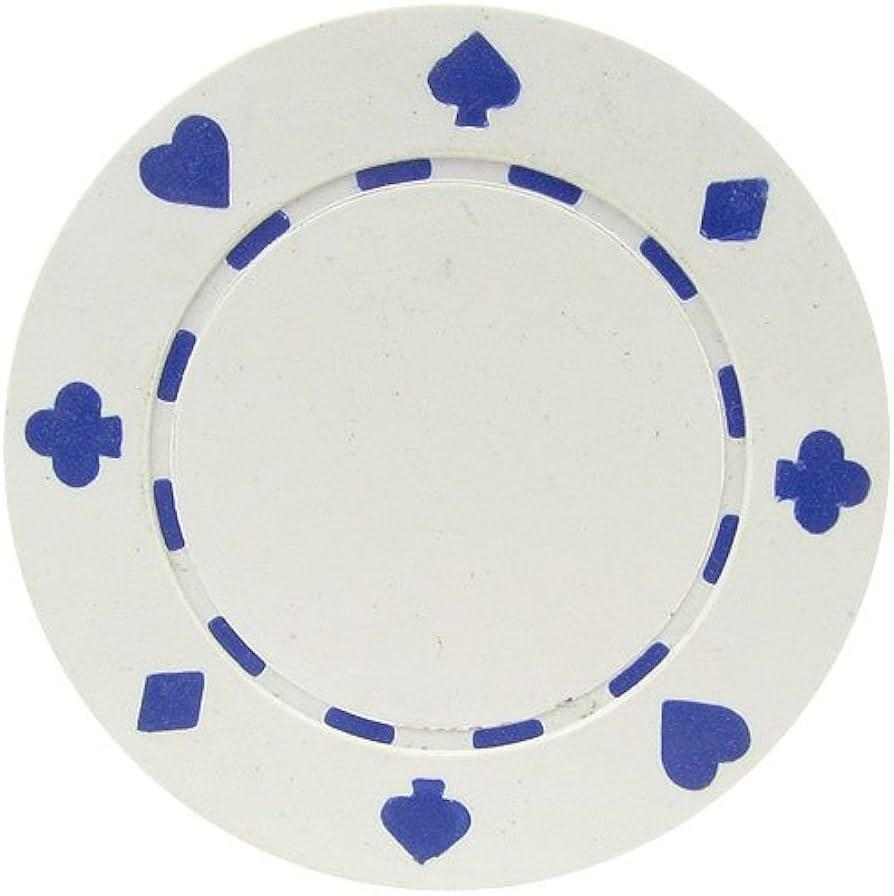chip-white: (5, 7, 887, 886)
